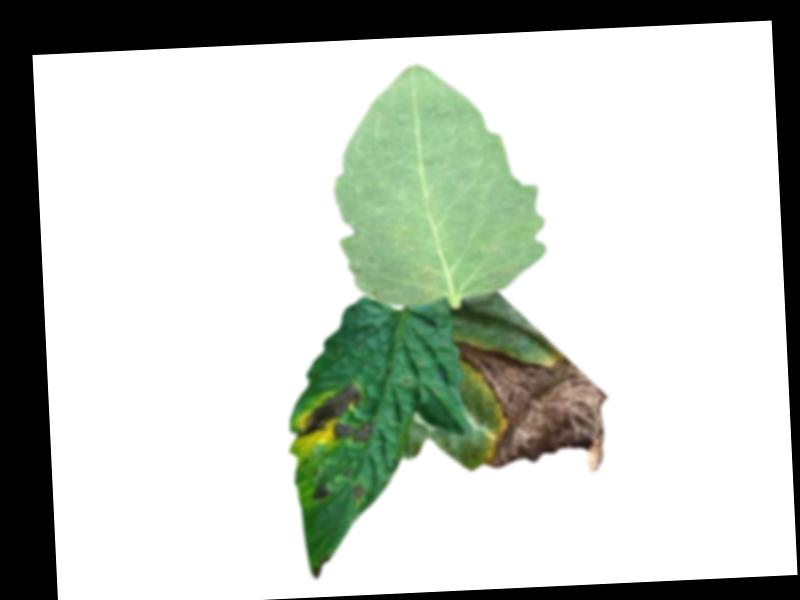Early_blight: (453, 330, 610, 481), (292, 381, 372, 448), (310, 552, 332, 580), (309, 482, 329, 500), (351, 480, 366, 499)
healthy: (326, 59, 550, 312)
